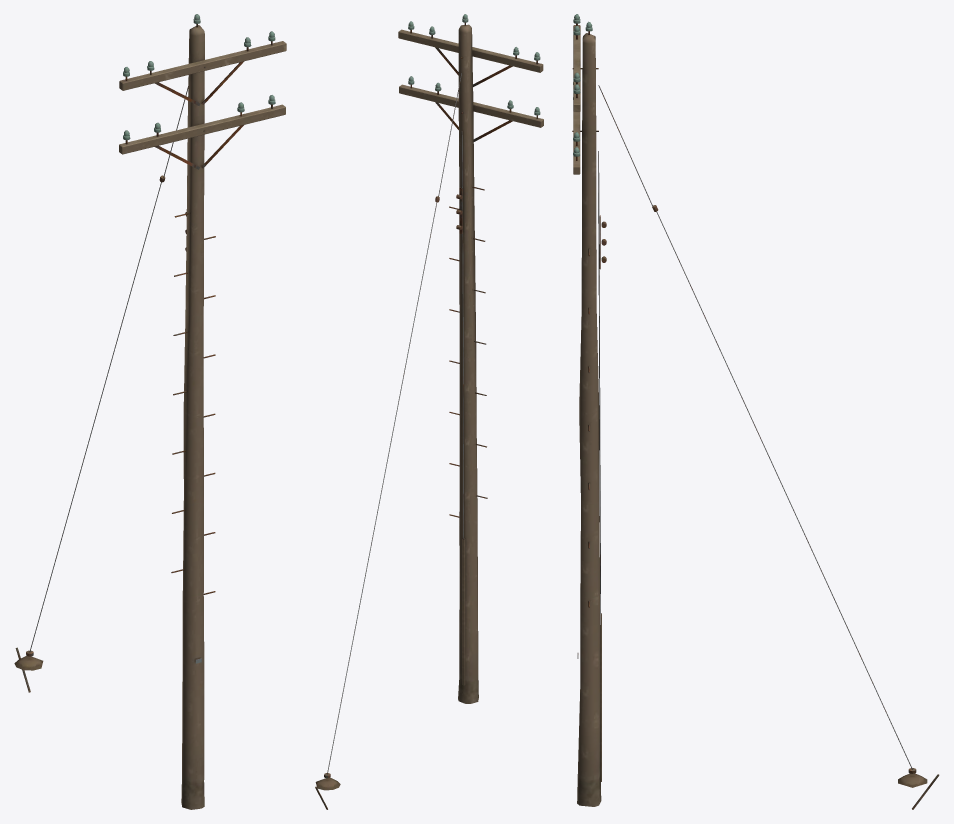
The model's file is utility_pole_guyed-low.glb.
3 renders of one model, left to right at view 1: azimuth 30°, elevation 25°; view 2: azimuth 150°, elevation 25°; view 3: azimuth 270°, elevation 25°, orthographic. The views are drawn at different scales.
Parts seen in each view (by area): view 1: utility_pole_guyed; view 2: utility_pole_guyed; view 3: utility_pole_guyed.
Part boxes in pixels (x1=…): utility_pole_guyed: x1=14, y1=14, x2=286, y2=809; utility_pole_guyed: x1=315, y1=14, x2=543, y2=809; utility_pole_guyed: x1=572, y1=14, x2=939, y2=809.
Bounding box in the file's own units: 2.45 × 11.32 × 4.77.
Materials: 4 (4 with a texture image).
